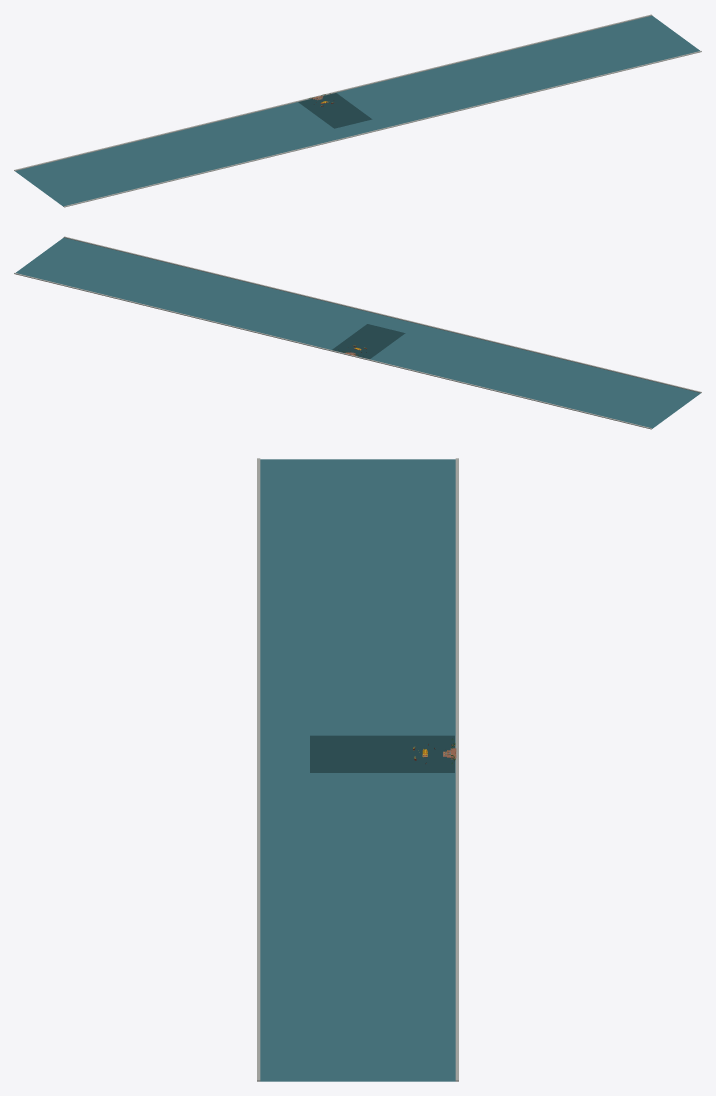
The model's file is T29_song_huong_thuyen_rong.glb.
3 views of the same model, one above another, from view 1: azimuth 30°, elevation 25°; view 2: azimuth 150°, elevation 25°; view 3: azimuth 270°, elevation 25° (orthographic). The views are drawn at different scales.
Visible parts, largest first — view 1: T29_V2_Satellite_Seamless_Base, T29_River_Pier_And_Flagship; view 2: T29_V2_Satellite_Seamless_Base, T29_River_Pier_And_Flagship; view 3: T29_V2_Satellite_Seamless_Base, T29_River_Pier_And_Flagship.
Boxes of the visible parts, bbox=[...] form: T29_V2_Satellite_Seamless_Base: bbox=[14, 14, 701, 207]; T29_River_Pier_And_Flagship: bbox=[298, 93, 372, 128]; T29_V2_Satellite_Seamless_Base: bbox=[14, 236, 701, 429]; T29_River_Pier_And_Flagship: bbox=[332, 324, 405, 359]; T29_V2_Satellite_Seamless_Base: bbox=[257, 458, 458, 1081]; T29_River_Pier_And_Flagship: bbox=[310, 735, 456, 772].
Bounding box in the file's own units: 2700 × 8.01 × 370.
Materials: 17 (5 with a texture image).
